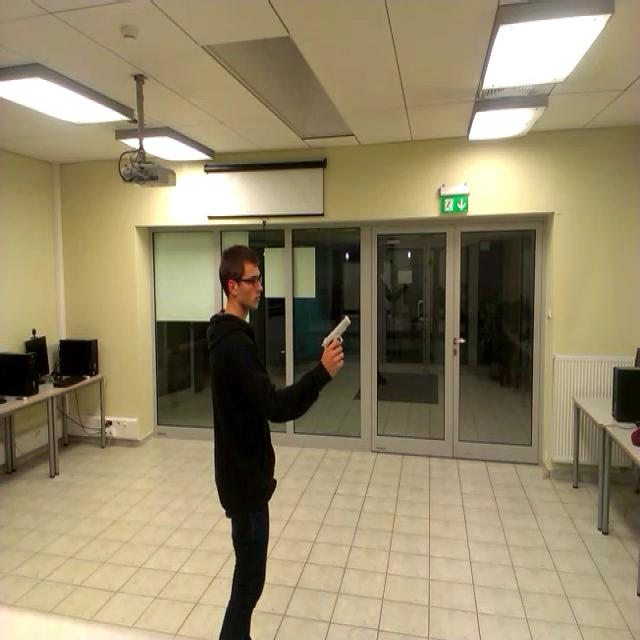handgun: (318, 304, 354, 384)
